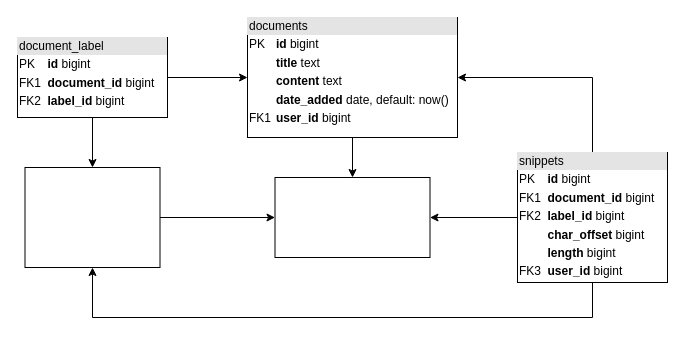
The diagram is 685 pixels wide and 343 high, and some of its shapes have lost their labels. Each missing label, with the box of its shape:
labels PK id bigint name text color int, nullable FK1 user_id bigint: (24, 166, 160, 268)
users PK id bigint username text, unique password text: (274, 176, 430, 258)
